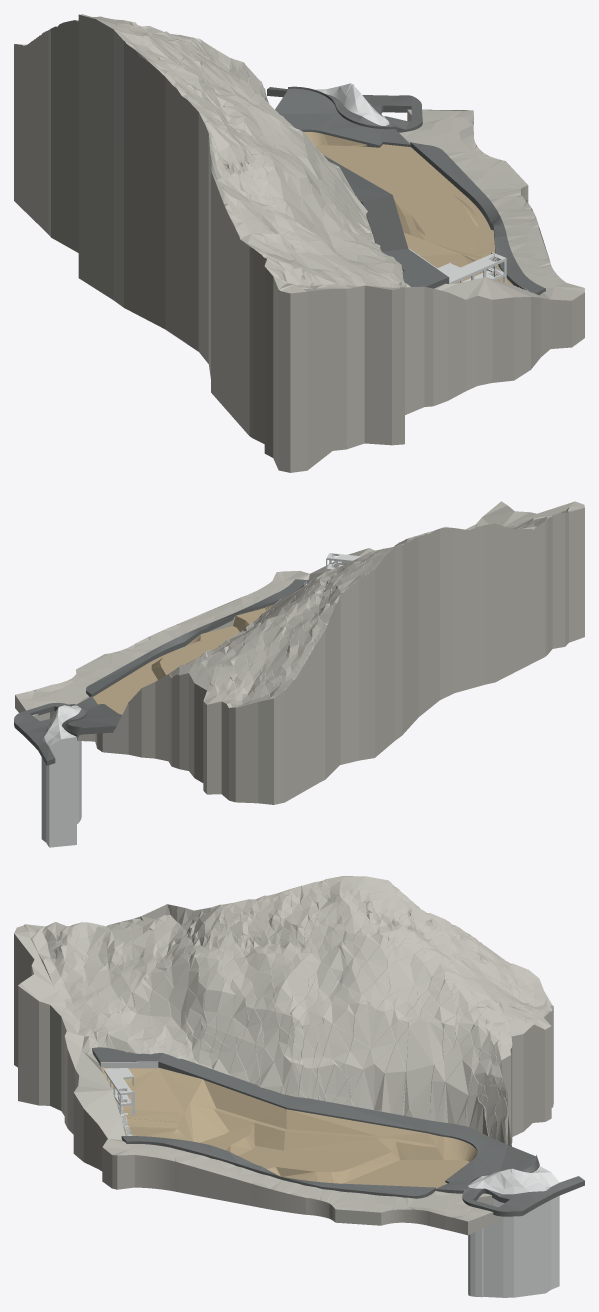
The model's file is project.glb.
The picture shows the model from 3 angles, top to bottom: view 1: azimuth 30°, elevation 25°; view 2: azimuth 150°, elevation 25°; view 3: azimuth 270°, elevation 25°; orthographic projection. The views are drawn at different scales.
Parts seen in each view (by area): view 1: Toposolid Mount Parker Road Site [628674], Toposolid Road [605416], Toposolid Mount Parker Road Site 4 [629999], Toposolid Mount Parker Road Site 4 [626493], Floor Footpath-1500mm [633793], Floor Footpath-1500mm [635871], Toposolid Mount Parker Road Site 4 [624127], Toposolid Boulder [658958], Toposolid Mount Parker Road Site 4 [626005]; view 2: Toposolid Mount Parker Road Site [628674], Toposolid Boulder [658958], Floor Footpath-1500mm [633793], Floor Footpath-1500mm [635871], Toposolid Mount Parker Road Site 4 [629999], Toposolid Mount Parker Road Site 4 [626493], Toposolid Road [605416]; view 3: Toposolid Mount Parker Road Site [628674], Toposolid Mount Parker Road Site 4 [624744], Toposolid Boulder [658958], Toposolid Road [605416], Toposolid Mount Parker Road Site 4 [624127], Floor Footpath-1500mm [633793], Toposolid Mount Parker Road Site 4 [626493], Toposolid Mount Parker Road Site 4 [629999], Floor Footpath-1500mm [635871], Toposolid Mount Parker Road Site 4 [630431], Toposolid Mount Parker Road Site 4 [629007], Toposolid Mount Parker Road Site 4 [658090].
Part boxes in pixels (left/top/right/bottom): Toposolid Mount Parker Road Site [628674]: left=14, top=14, right=584, bottom=472; Toposolid Road [605416]: left=275, top=88, right=448, bottom=288; Toposolid Mount Parker Road Site 4 [629999]: left=316, top=144, right=490, bottom=229; Toposolid Mount Parker Road Site 4 [626493]: left=366, top=179, right=494, bottom=242; Floor Footpath-1500mm [633793]: left=410, top=142, right=545, bottom=295; Floor Footpath-1500mm [635871]: left=267, top=86, right=422, bottom=132; Toposolid Mount Parker Road Site 4 [624127]: left=404, top=232, right=513, bottom=285; Toposolid Boulder [658958]: left=315, top=83, right=389, bottom=125; Toposolid Mount Parker Road Site 4 [626005]: left=432, top=241, right=494, bottom=257; Toposolid Mount Parker Road Site [628674]: left=15, top=501, right=584, bottom=804; Toposolid Boulder [658958]: left=41, top=705, right=81, bottom=847; Floor Footpath-1500mm [633793]: left=86, top=579, right=308, bottom=696; Floor Footpath-1500mm [635871]: left=14, top=703, right=86, bottom=765; Toposolid Mount Parker Road Site 4 [629999]: left=93, top=649, right=178, bottom=714; Toposolid Mount Parker Road Site 4 [626493]: left=160, top=626, right=239, bottom=675; Toposolid Road [605416]: left=68, top=696, right=121, bottom=734; Toposolid Mount Parker Road Site [628674]: left=14, top=876, right=553, bottom=1235; Toposolid Mount Parker Road Site 4 [624744]: left=172, top=1079, right=437, bottom=1159; Toposolid Boulder [658958]: left=468, top=1166, right=559, bottom=1297; Toposolid Road [605416]: left=92, top=1047, right=536, bottom=1193; Toposolid Mount Parker Road Site 4 [624127]: left=101, top=1067, right=202, bottom=1138; Floor Footpath-1500mm [633793]: left=121, top=1136, right=435, bottom=1198; Toposolid Mount Parker Road Site 4 [626493]: left=239, top=1146, right=391, bottom=1172; Toposolid Mount Parker Road Site 4 [629999]: left=342, top=1160, right=469, bottom=1188; Floor Footpath-1500mm [635871]: left=462, top=1155, right=584, bottom=1216; Toposolid Mount Parker Road Site 4 [630431]: left=267, top=1152, right=399, bottom=1183; Toposolid Mount Parker Road Site 4 [629007]: left=436, top=1136, right=477, bottom=1161; Toposolid Mount Parker Road Site 4 [658090]: left=214, top=1108, right=436, bottom=1147.
Size of the model in its own units: 116 by 88.23 by 158.
